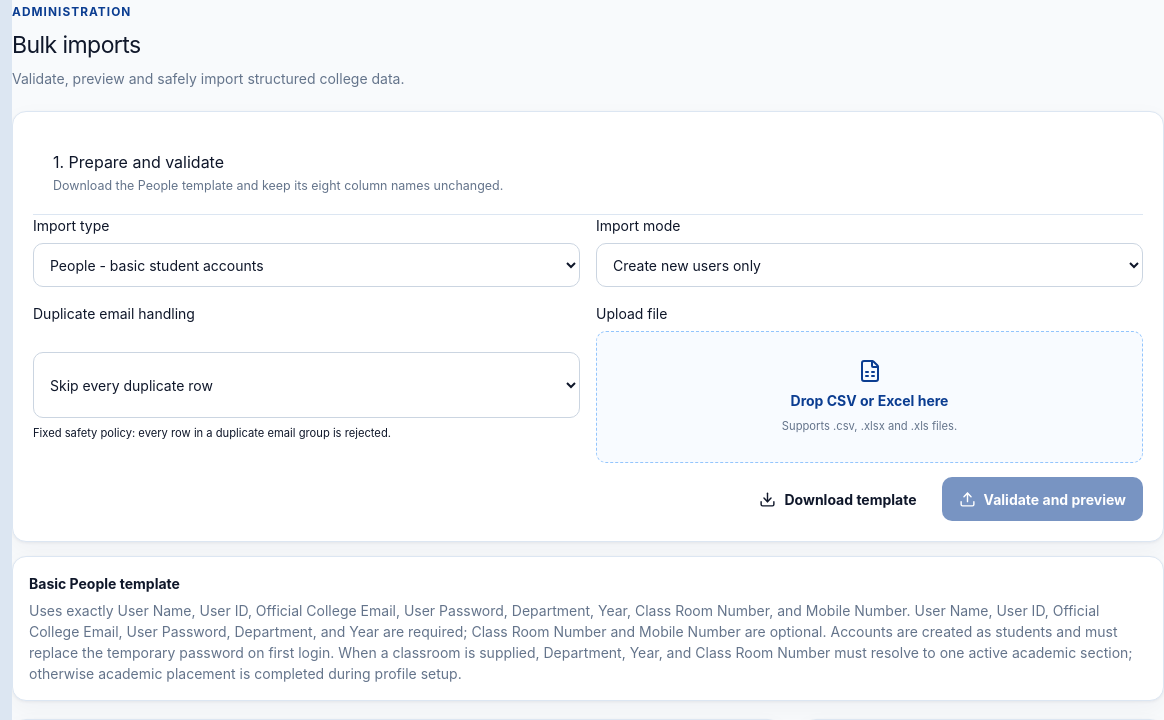
Scenario: People bulk import page › shows the exact People contract while preserving legacy Student study years
Expected: the text "Basic People template" is shown, [29, 575, 180, 592]
Expected: the text "Uses exactly User Name, User ID, Official College Email, User Password" shows "User Name, User ID, Official College Email, User Password, Department, Year, Class Room Number, and Mobile Number", [29, 602, 1132, 682]
Select "Students" in the dropdown labelled "Import type" at (306, 265), box [33, 243, 580, 287]
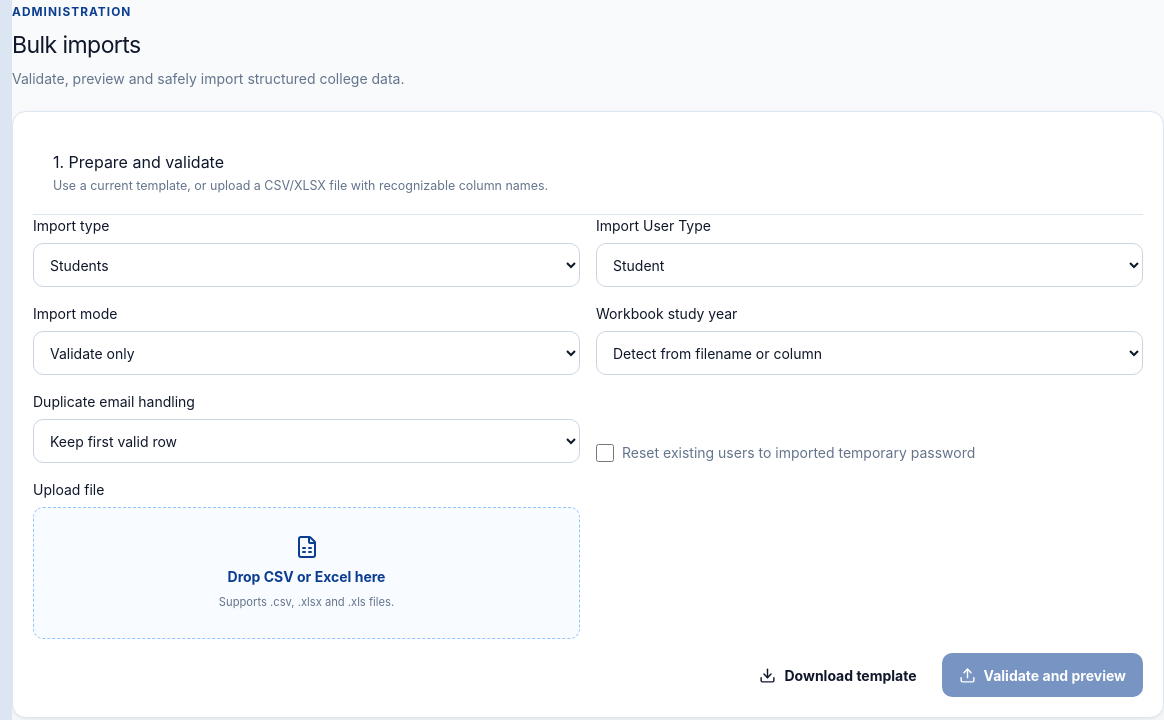
Now the dropdown labelled "Import mode" shows "Validate only", box [33, 331, 580, 375]
